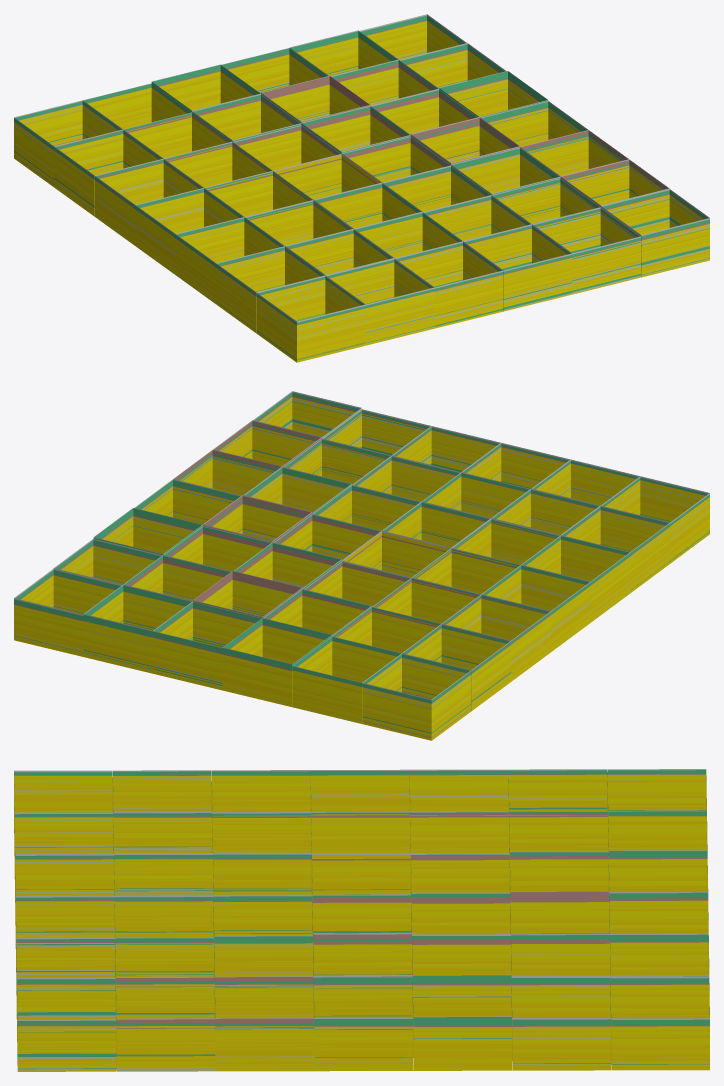
The picture shows the model from 3 angles, top to bottom: view 1: azimuth 30°, elevation 25°; view 2: azimuth 150°, elevation 25°; view 3: azimuth 270°, elevation 25°; orthographic projection. The views are drawn at different scales.
Parts seen in each view (by area): view 1: mesh; view 2: mesh; view 3: mesh.
Part boxes in pixels (bbox=[...]): mesh: bbox=[14, 14, 709, 362]; mesh: bbox=[14, 391, 709, 740]; mesh: bbox=[14, 769, 709, 1071].
Size of what is drawn, in the model's own units: 986 by 99 by 1151.
